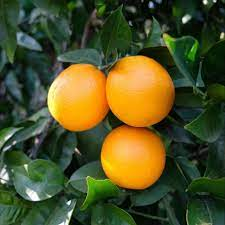portakal: (99, 128, 179, 203), (107, 44, 180, 126)
